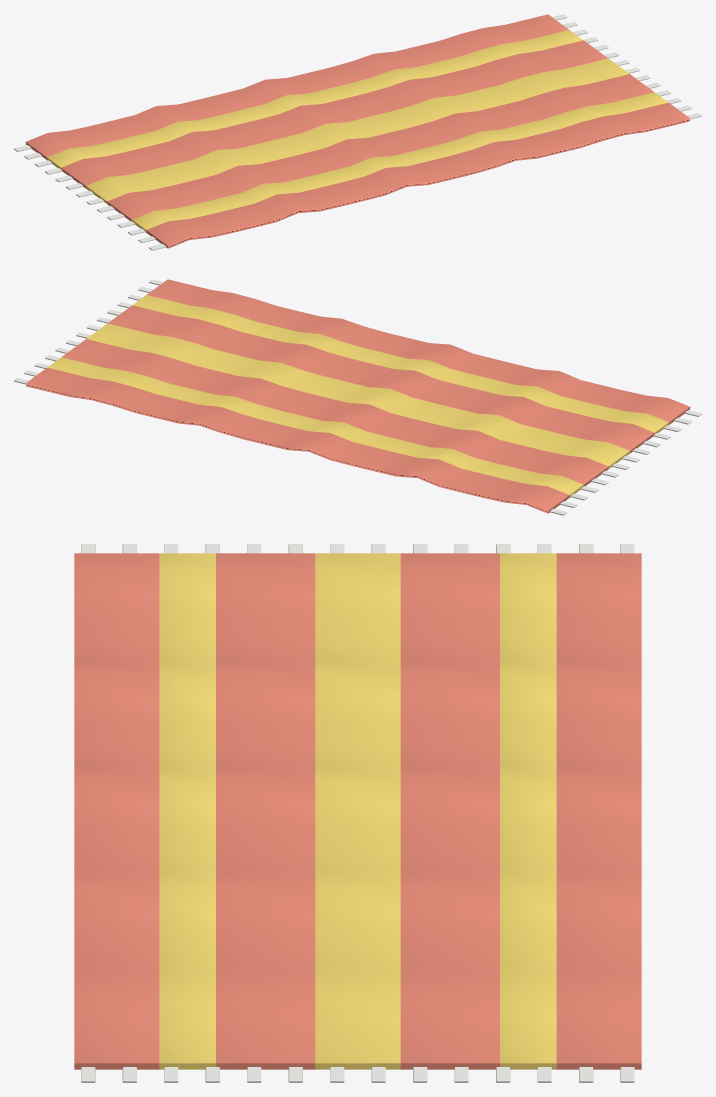
The model's file is beach-surf-and-paddle-kit-striped-beach-towel-3da16df7__39437.glb.
3 views of the same model, one above another, from view 1: azimuth 30°, elevation 25°; view 2: azimuth 150°, elevation 25°; view 3: azimuth 270°, elevation 25° (orthographic). The views are drawn at different scales.
Parts seen in each view (by area): view 1: striped-beach-towel-coral, striped-beach-towel-sun, striped-beach-towel-foam; view 2: striped-beach-towel-coral, striped-beach-towel-sun, striped-beach-towel-foam; view 3: striped-beach-towel-coral, striped-beach-towel-sun, striped-beach-towel-foam.
Part boxes in pixels (box(x1,y1,x2,y2)): striped-beach-towel-coral: box(25, 14, 689, 248); striped-beach-towel-sun: box(47, 30, 668, 232); striped-beach-towel-foam: box(14, 14, 701, 250); striped-beach-towel-coral: box(26, 279, 690, 513); striped-beach-towel-sun: box(47, 295, 668, 497); striped-beach-towel-foam: box(14, 279, 701, 515); striped-beach-towel-coral: box(74, 553, 641, 1069); striped-beach-towel-sun: box(159, 553, 556, 1069); striped-beach-towel-foam: box(81, 544, 634, 1082).
Bounding box in the file's own units: 1.79 × 0.022 × 0.8.
